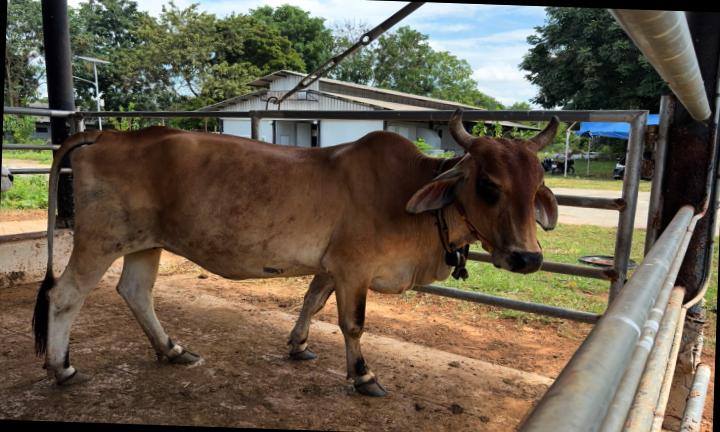Brahman: (34, 109, 558, 396)
